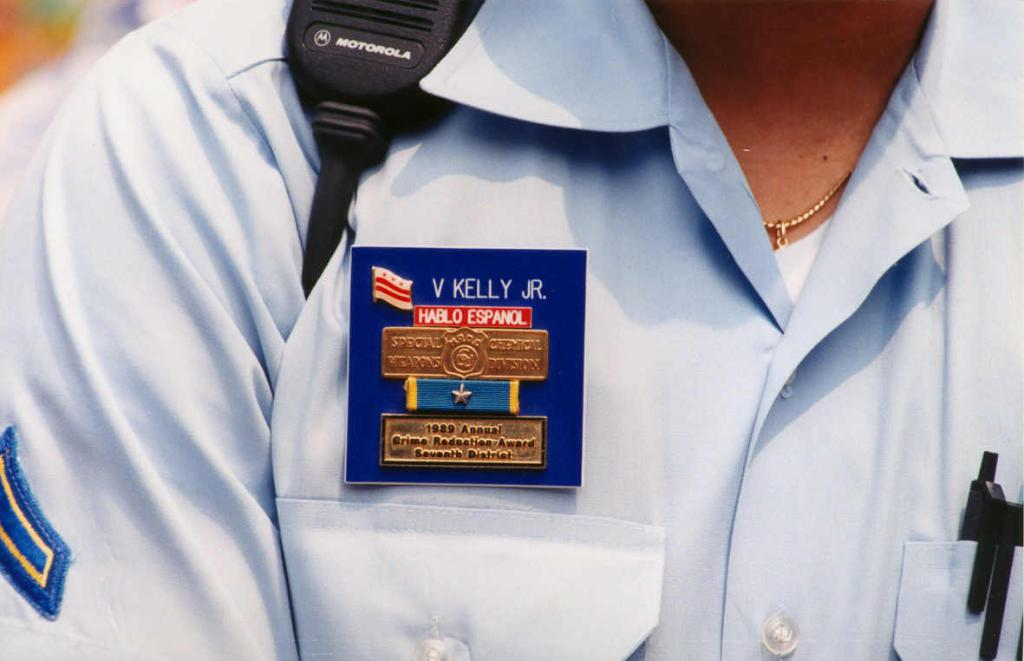person: (0, 0, 239, 276)
